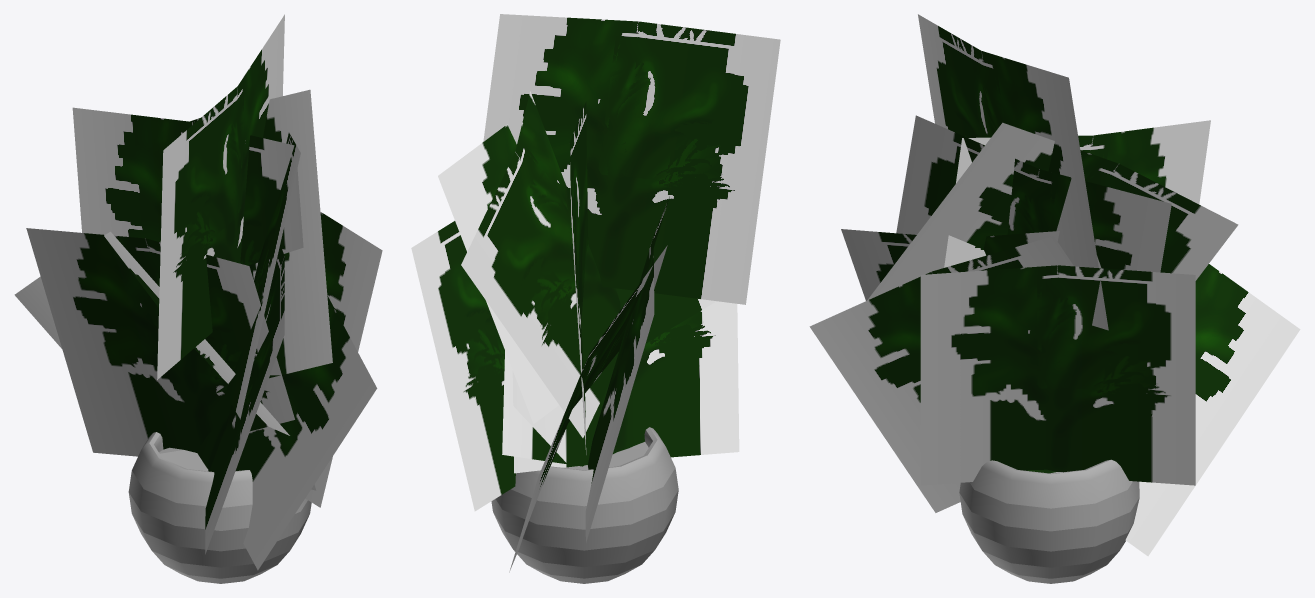
The model's file is MOD_HousePlant.fbx.
3 renders of one model, left to right at view 1: azimuth 30°, elevation 25°; view 2: azimuth 150°, elevation 25°; view 3: azimuth 270°, elevation 25°, orthographic. The views are drawn at different scales.
Parts seen in each view (by area): view 1: pPlane21; view 2: pPlane21; view 3: pPlane21.
Part boxes in pixels (<box>): pPlane21: <box>14,14,382,583</box>; pPlane21: <box>411,14,780,583</box>; pPlane21: <box>809,14,1300,583</box>.
Size of the model in its own units: 56.97 by 126 by 107.
